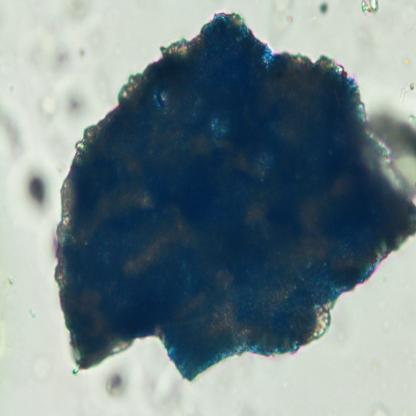Background material: (376, 113, 416, 177), (142, 370, 188, 412), (42, 43, 76, 74), (27, 172, 51, 212), (3, 113, 21, 160), (35, 92, 57, 126), (106, 371, 132, 398), (69, 91, 91, 118), (66, 1, 88, 24), (360, 0, 378, 21), (319, 1, 330, 17), (286, 11, 294, 25)
Fragment: (56, 6, 416, 378)
